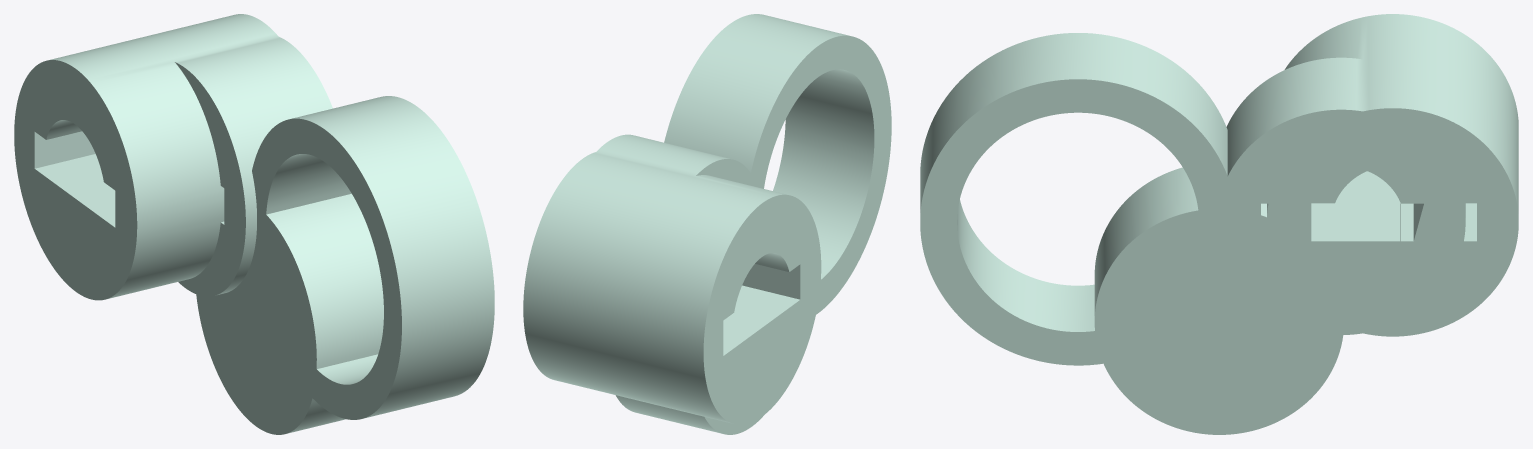
3 views of the same model, side by side, from view 1: azimuth 30°, elevation 25°; view 2: azimuth 150°, elevation 25°; view 3: azimuth 270°, elevation 25° (orthographic). The views are drawn at different scales.
Visible parts, largest first — view 1: Renderer Node; view 2: Renderer Node; view 3: Renderer Node.
Boxes of the visible parts, left/top/right/bottom form: Renderer Node: left=14, top=14, right=494, bottom=434; Renderer Node: left=523, top=14, right=891, bottom=434; Renderer Node: left=920, top=14, right=1518, bottom=434.
Bounding box in the file's own units: 0.5234 × 0.922 × 1.41.
